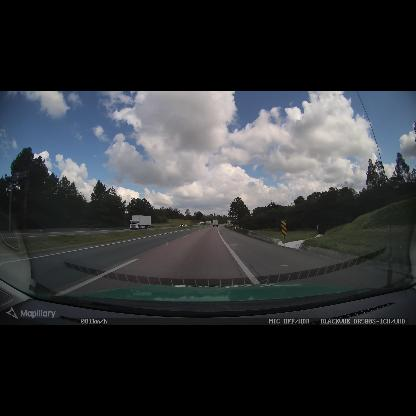O-MP: (281, 220, 287, 236)
